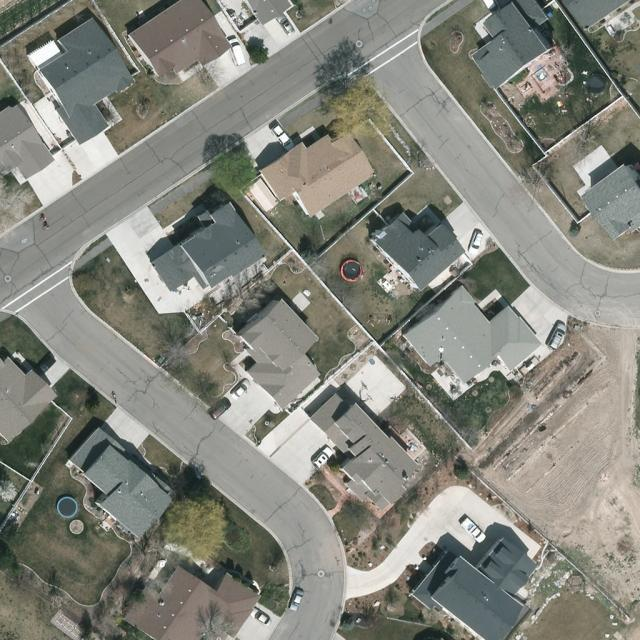vehicle: (459, 516, 485, 545), (546, 323, 570, 353), (270, 124, 295, 152), (308, 448, 336, 470), (34, 354, 59, 378), (208, 396, 232, 421), (228, 377, 253, 400), (274, 13, 298, 36), (227, 39, 247, 65), (287, 588, 304, 612), (247, 609, 272, 625), (468, 230, 482, 256)
